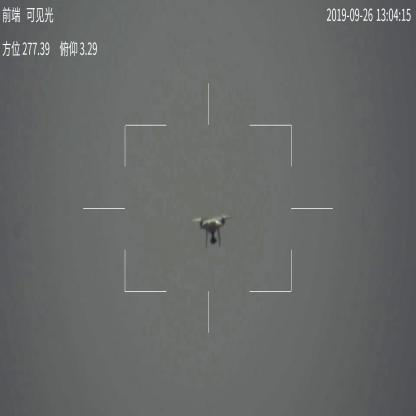uav: (190, 214, 236, 251)
